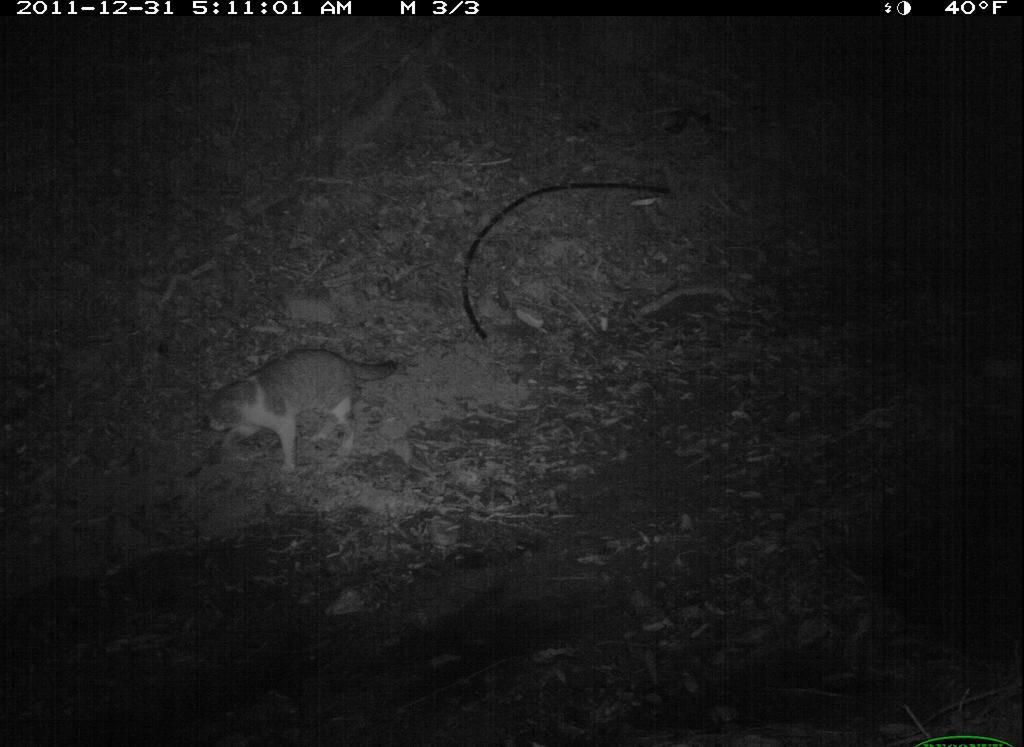cat: (187, 328, 427, 488)
